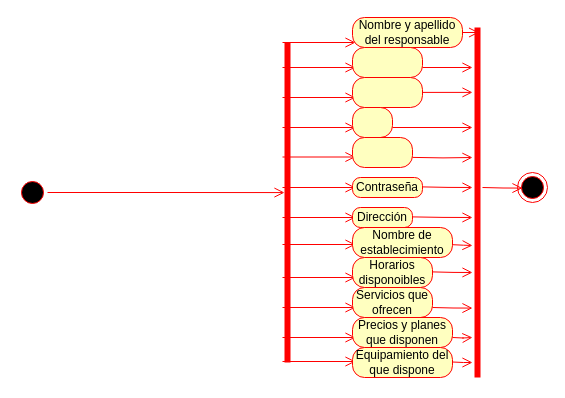
The diagram is 565 pixels wide and 398 high, and some of its shapes have lost their labels. Here are the shapes that lost their labels. From the top down, the centre of each, then its label:
At pixel 387 62: "Dirección de correo".
At pixel 387 92: "Teléfono de contacto".
At pixel 372 122: "CUIL".
At pixel 382 152: "Nombre de usuario".
